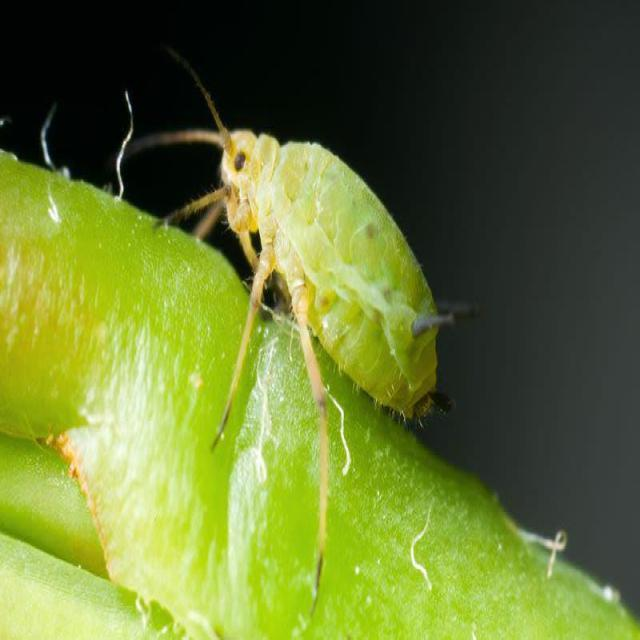aphid: (121, 68, 502, 556)
